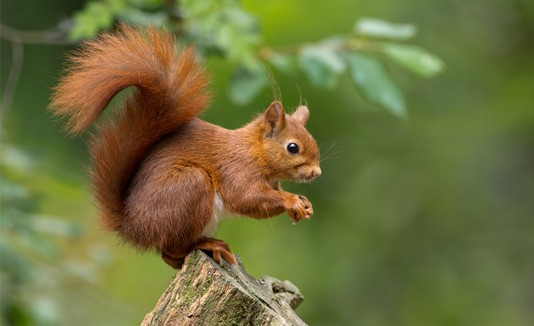Ardilla: (223, 91, 349, 216)
